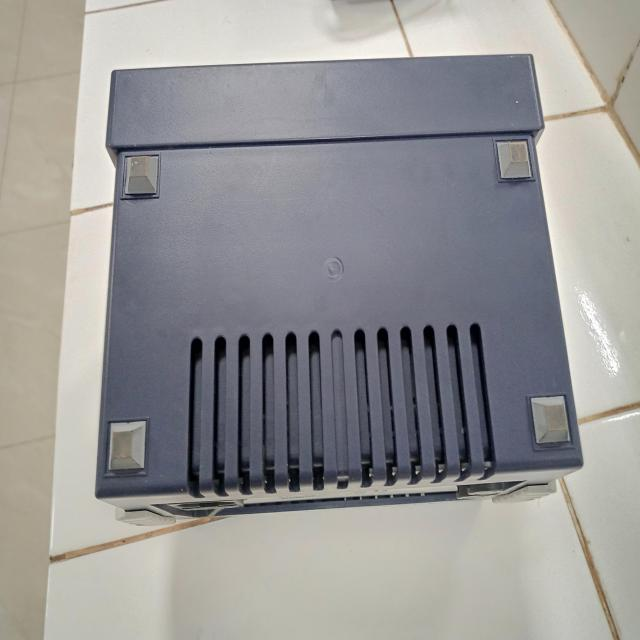Cobra 4 Xpert link Power Supply: (88, 42, 588, 527)
